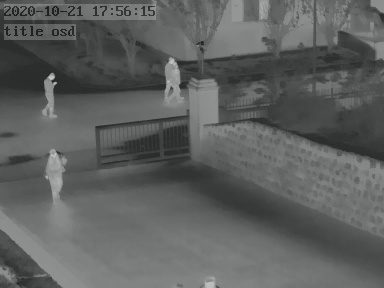person: (43, 146, 69, 203), (42, 71, 58, 118), (165, 55, 182, 99)
